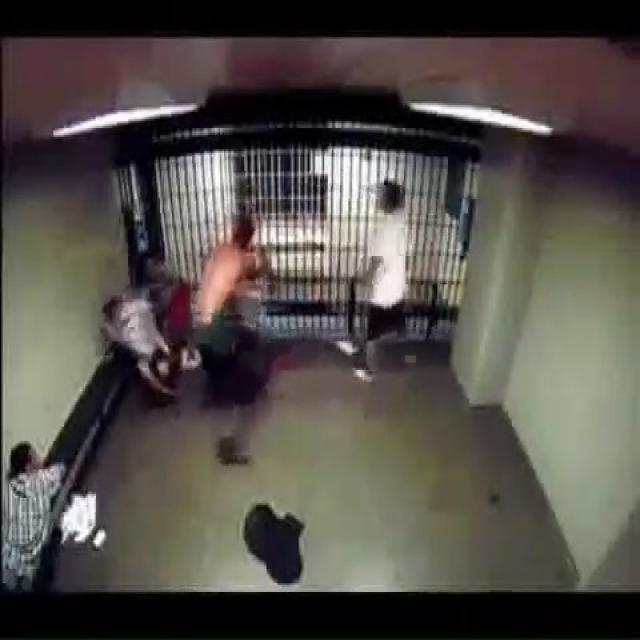fight: (170, 220, 294, 431)
